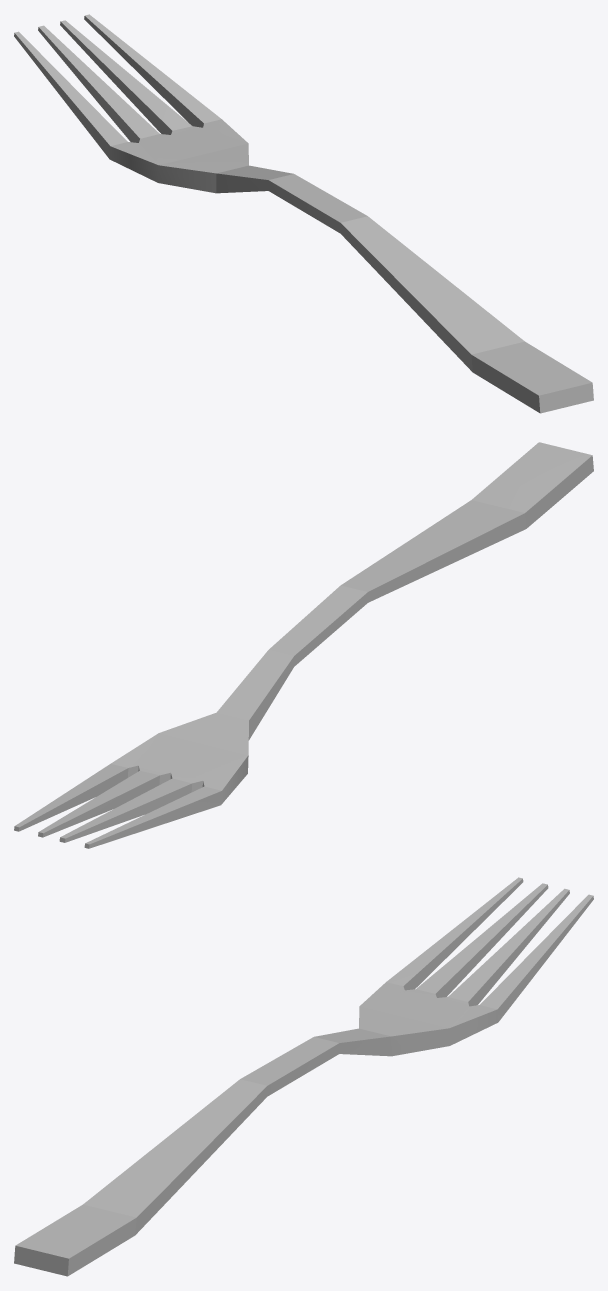
Rendered from fork_001.obj.
The picture shows the model from 3 angles, top to bottom: view 1: azimuth 30°, elevation 25°; view 2: azimuth 150°, elevation 25°; view 3: azimuth 330°, elevation 25°; orthographic projection.
Visible parts, largest first — view 1: fork_001; view 2: fork_001; view 3: fork_001.
Boxes of the visible parts, x1,y1,x2,y2 form: fork_001: (14,14,593,413); fork_001: (14,442,593,848); fork_001: (14,877,593,1276).
Size of the model in its own units: 0.0284 by 0.0159 by 0.2273.
